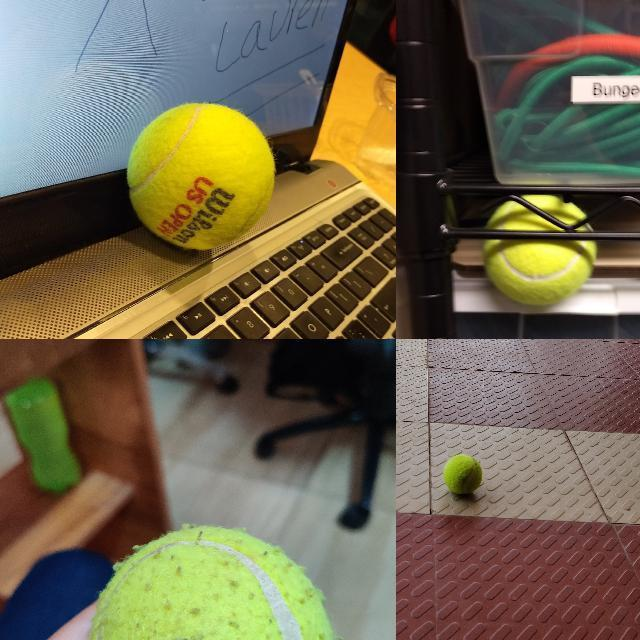tennis-ball: (88, 524, 334, 639), (125, 102, 276, 251), (483, 196, 598, 307), (443, 454, 482, 493)
